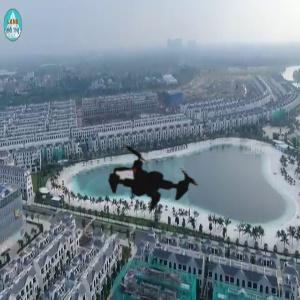drone: (87, 110, 219, 242)
